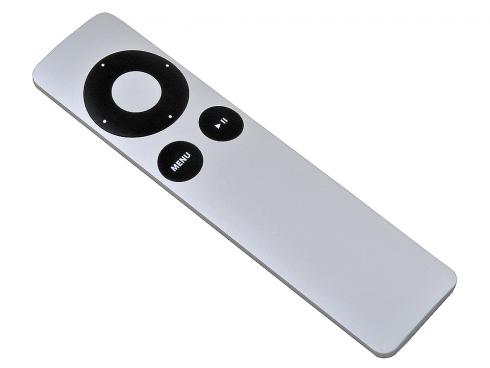Apple: (62, 45, 273, 211)
